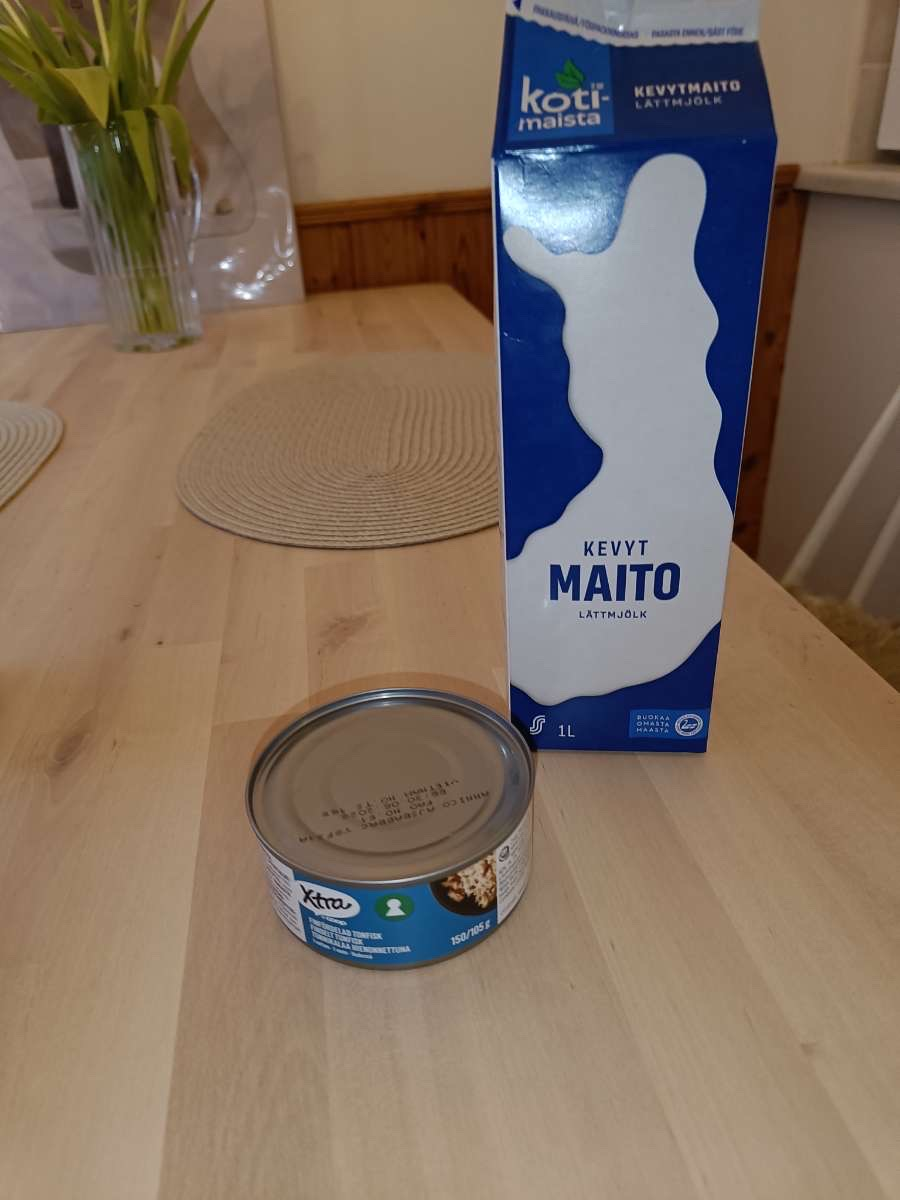Dryckeskartong: (483, 0, 781, 769)
Konservburk: (231, 694, 553, 970)
